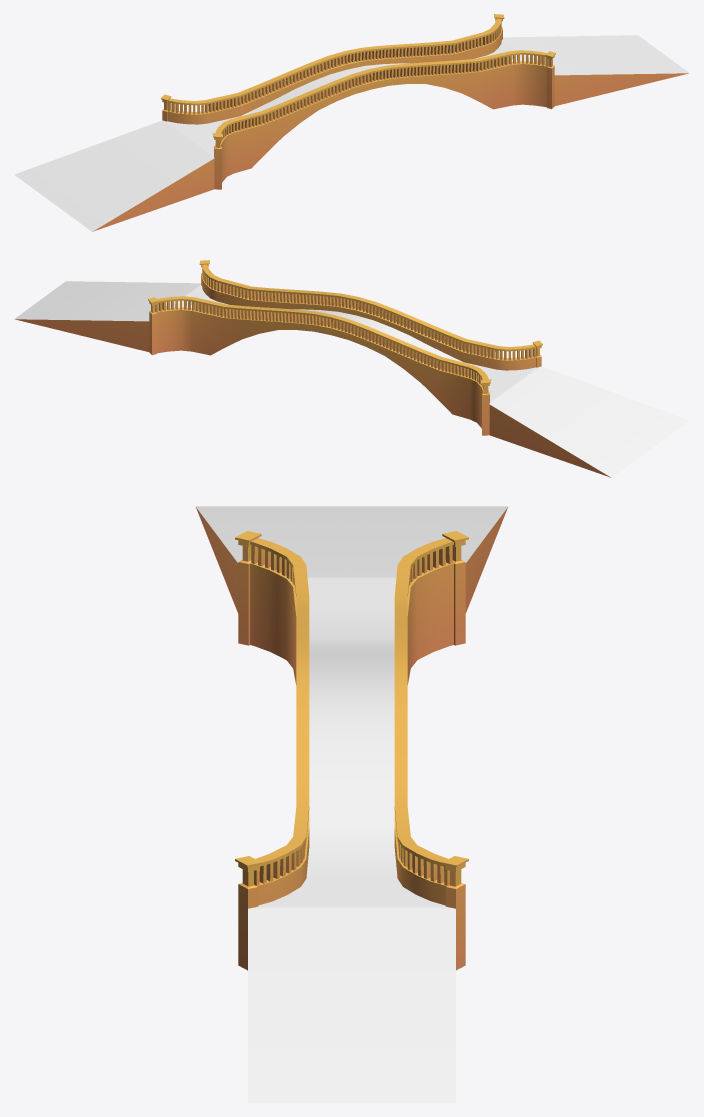
File: SM_HistoricalBridgeCMP.fbx
The picture shows the model from 3 angles, top to bottom: view 1: azimuth 30°, elevation 25°; view 2: azimuth 150°, elevation 25°; view 3: azimuth 270°, elevation 25°; orthographic projection. The views are drawn at different scales.
Visible parts, largest first — view 1: SM_HistoricalBridgeCMP; view 2: SM_HistoricalBridgeCMP; view 3: SM_HistoricalBridgeCMP.
Part boxes in pixels (x1,y1,x2,y2): SM_HistoricalBridgeCMP: [14, 14, 689, 231]; SM_HistoricalBridgeCMP: [14, 260, 689, 477]; SM_HistoricalBridgeCMP: [195, 506, 508, 1102].
Size of the model in its own units: 42.89 by 9.52 by 4.53.
